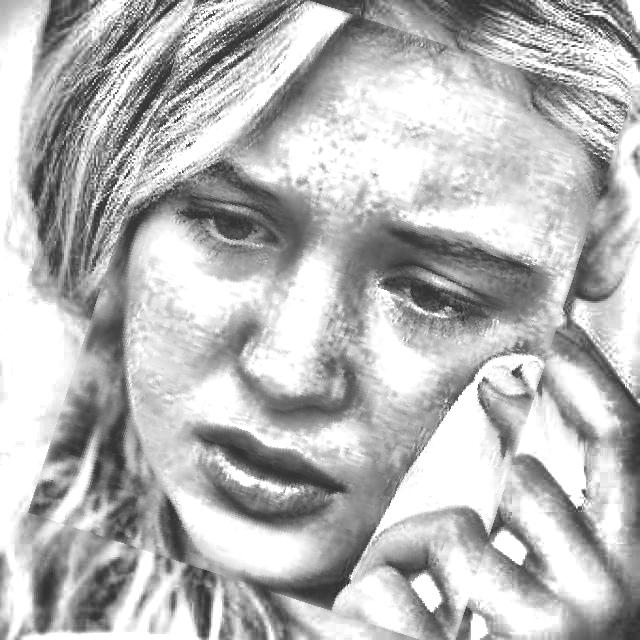sad: (67, 0, 590, 622)
